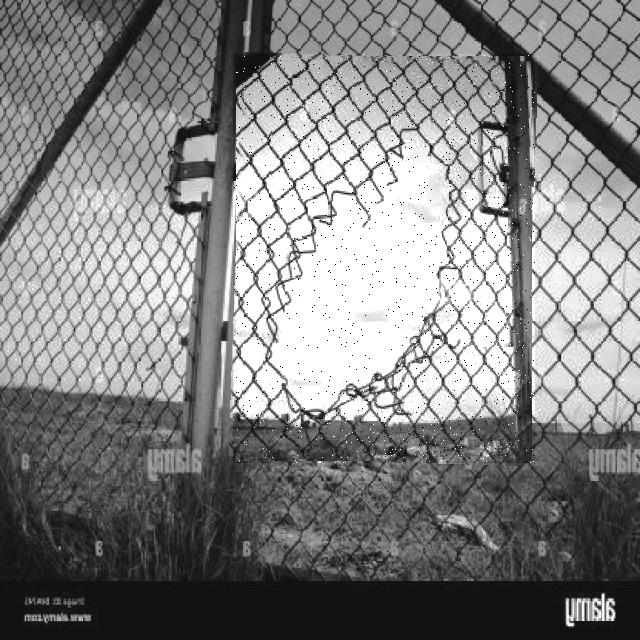anomaly-fence: (233, 54, 535, 463)
